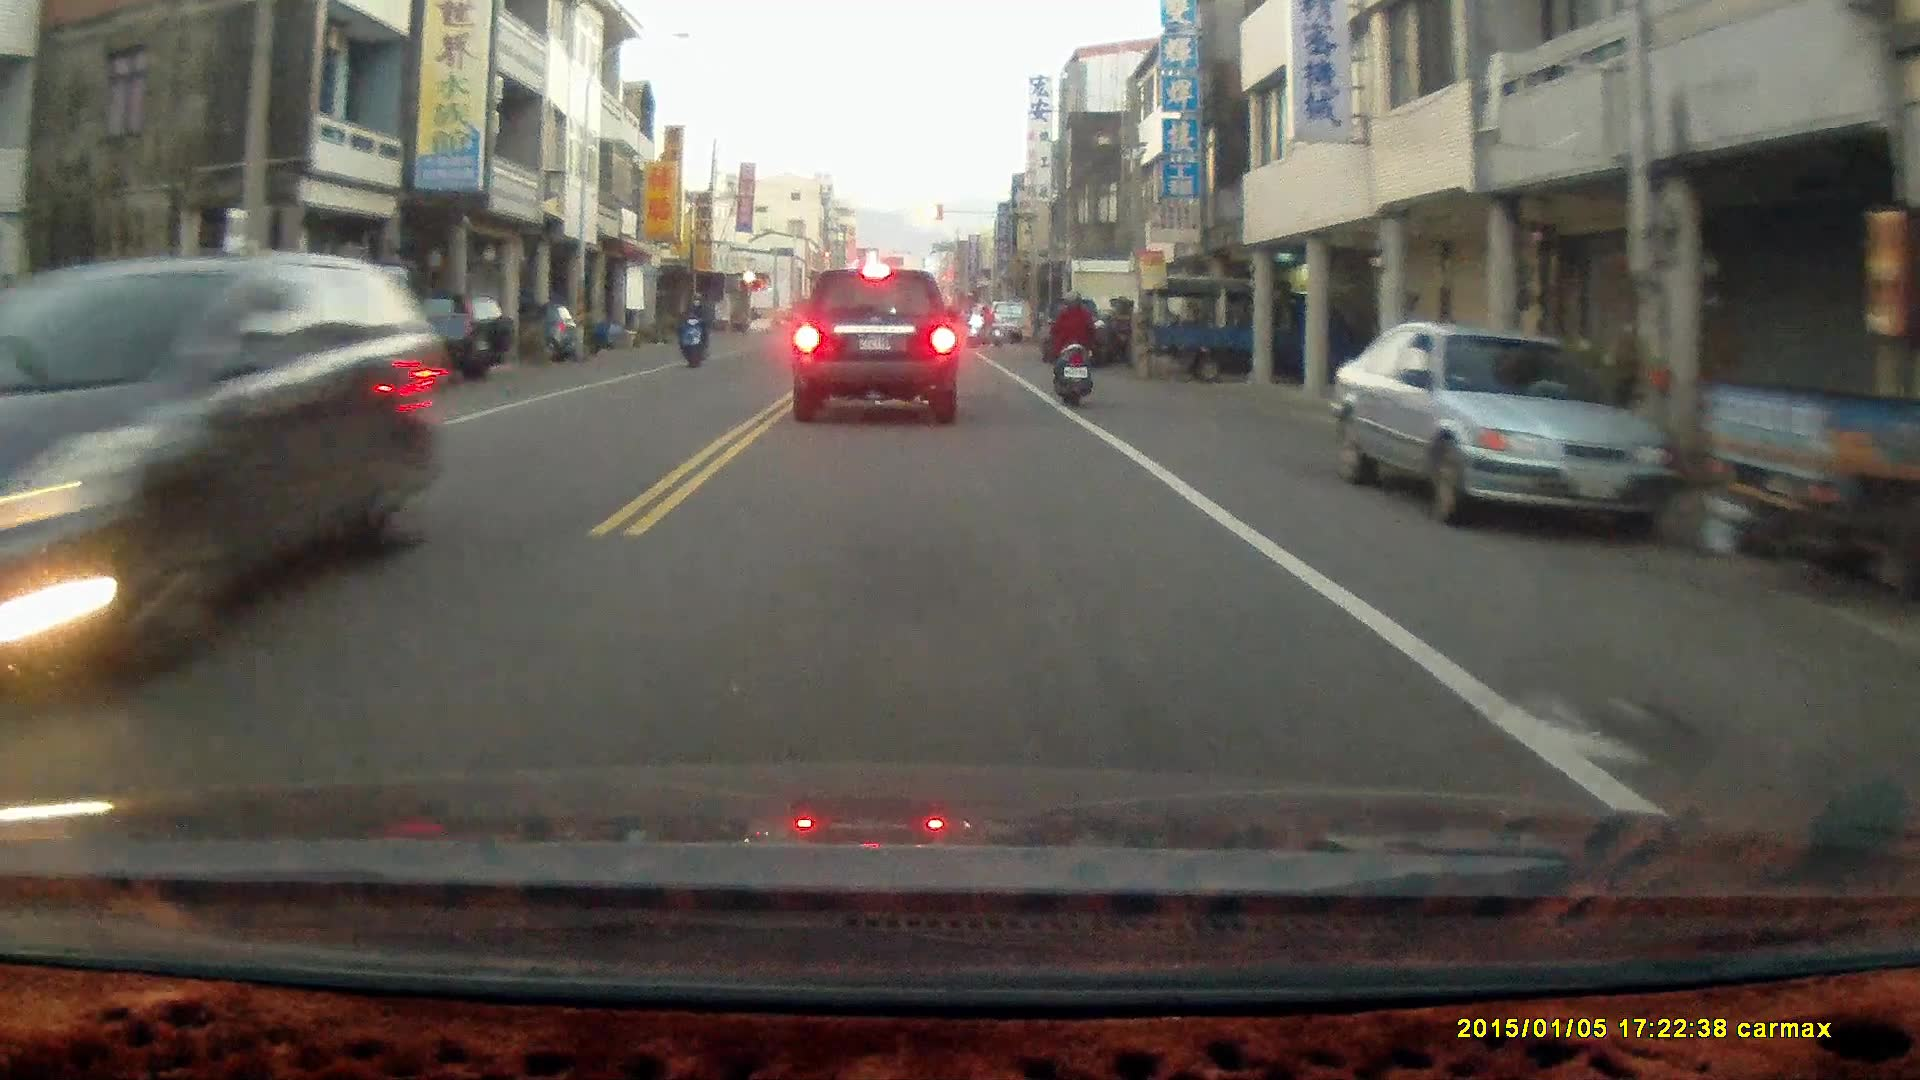rider: (1048, 288, 1097, 408), (676, 285, 713, 363), (964, 301, 1002, 348)
vehicle: (1, 246, 462, 675), (1331, 320, 1680, 544), (1697, 275, 1920, 608), (793, 261, 963, 427), (1145, 264, 1374, 375)
